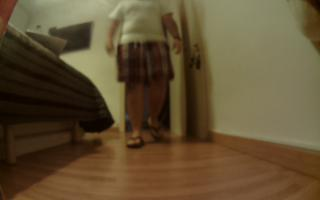person: (105, 1, 185, 150)
